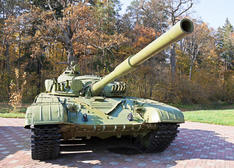t72: (26, 19, 194, 157)
